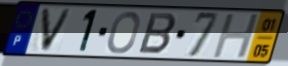1: (77, 8, 100, 55)
7: (189, 10, 220, 60)
B: (136, 11, 179, 56)
H: (210, 13, 262, 60)
O: (106, 10, 142, 55)
V: (39, 6, 74, 54)
